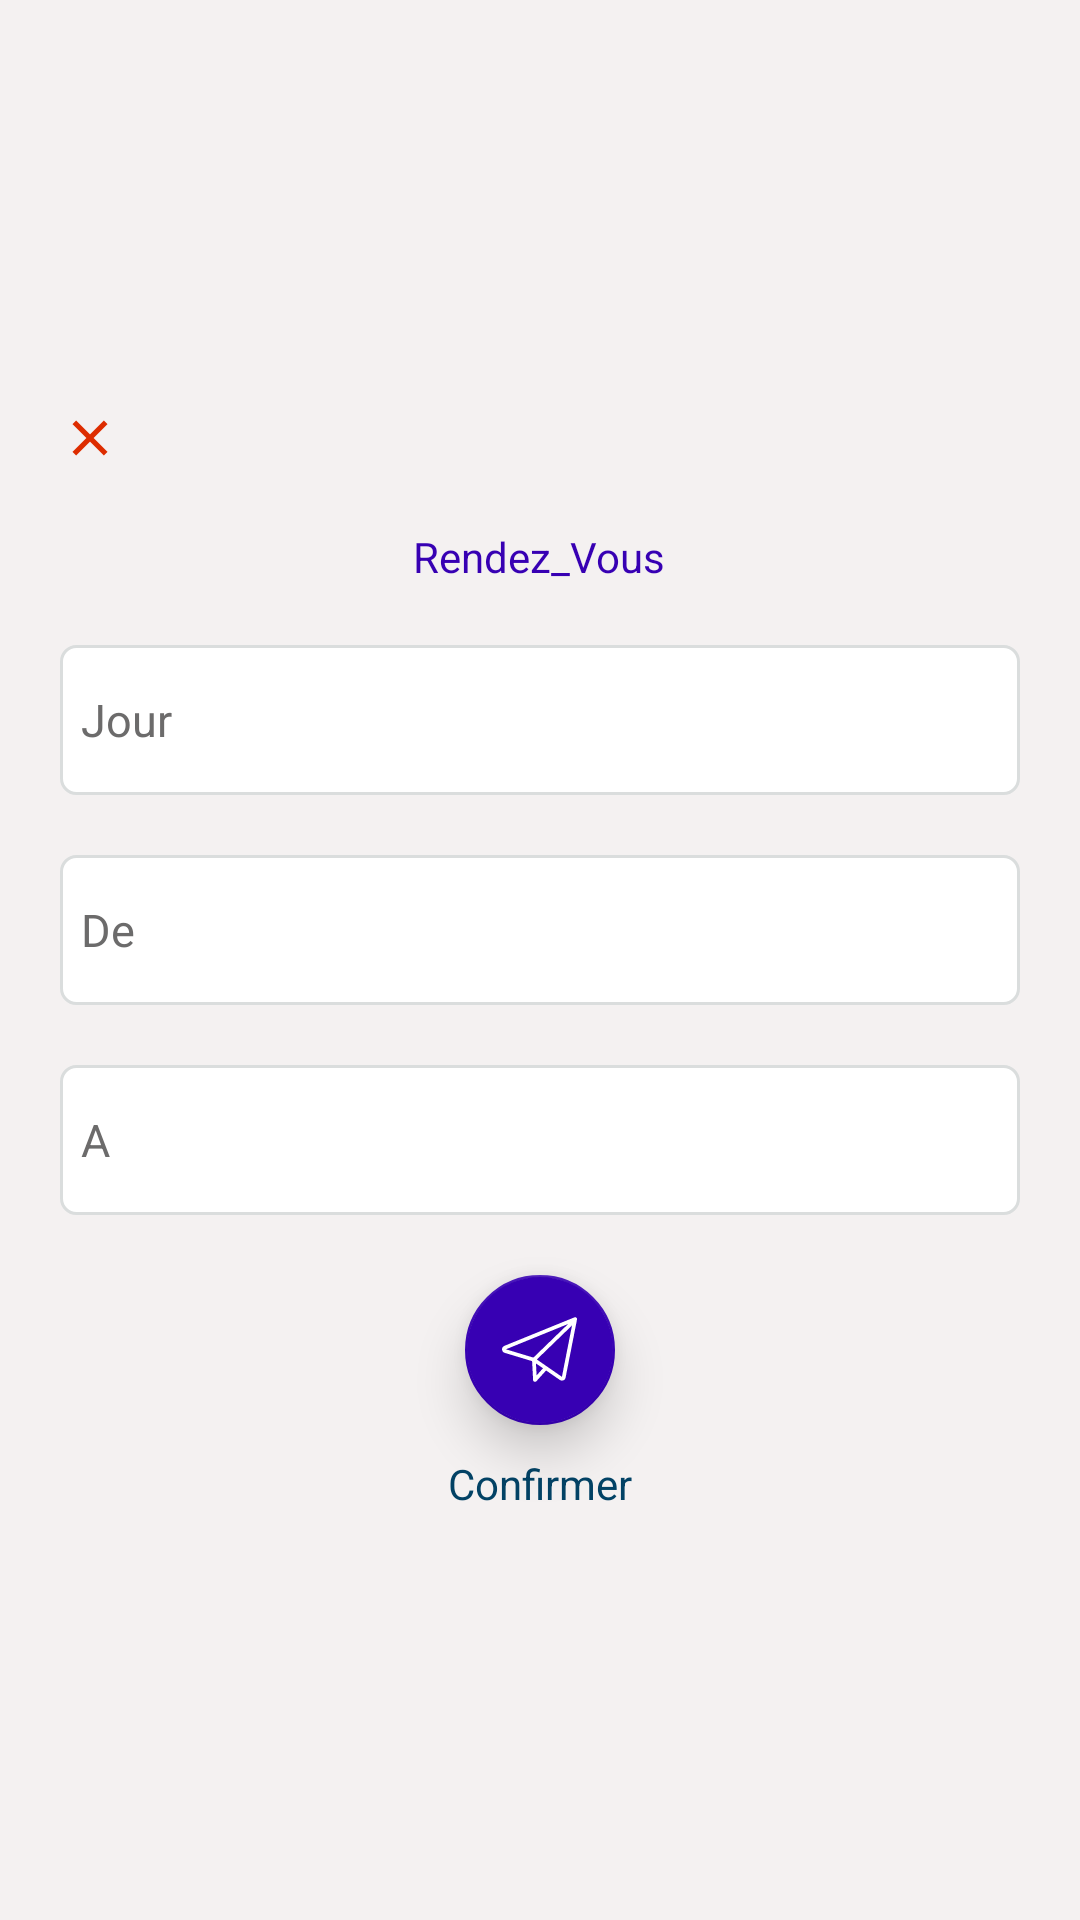

Where icons sit on this 1080×1920 app screen, as [x1, y1, x2, y2]:
close: [72, 420, 108, 456]
paper plane: [465, 1275, 615, 1425]
